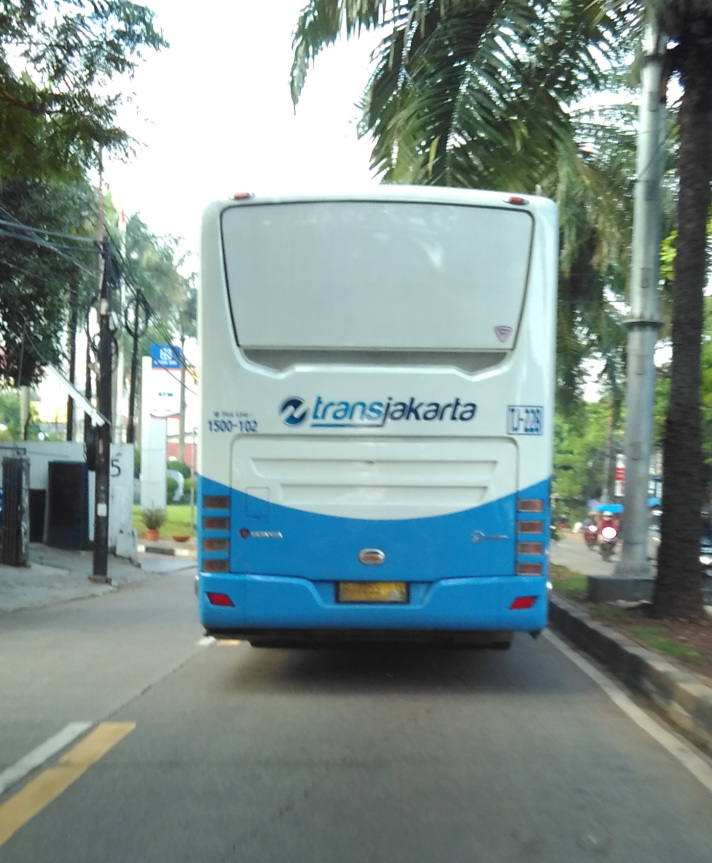plate: (337, 580, 406, 602)
